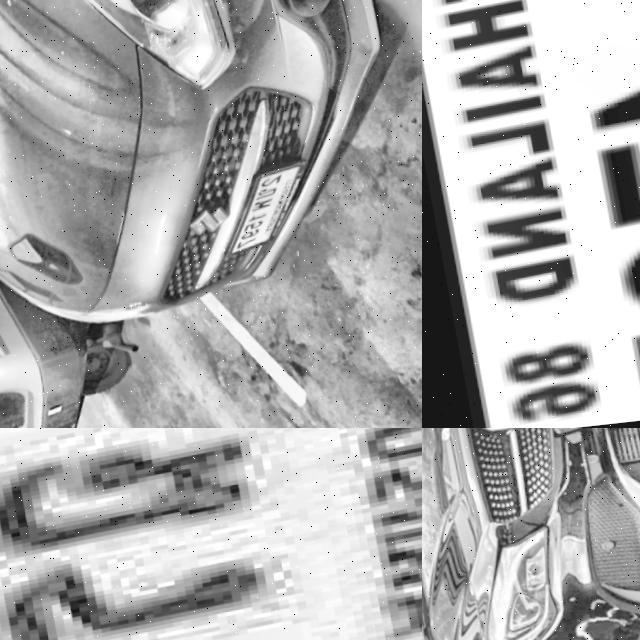license-plate: (422, 0, 640, 428), (0, 428, 422, 640), (201, 170, 314, 268)
